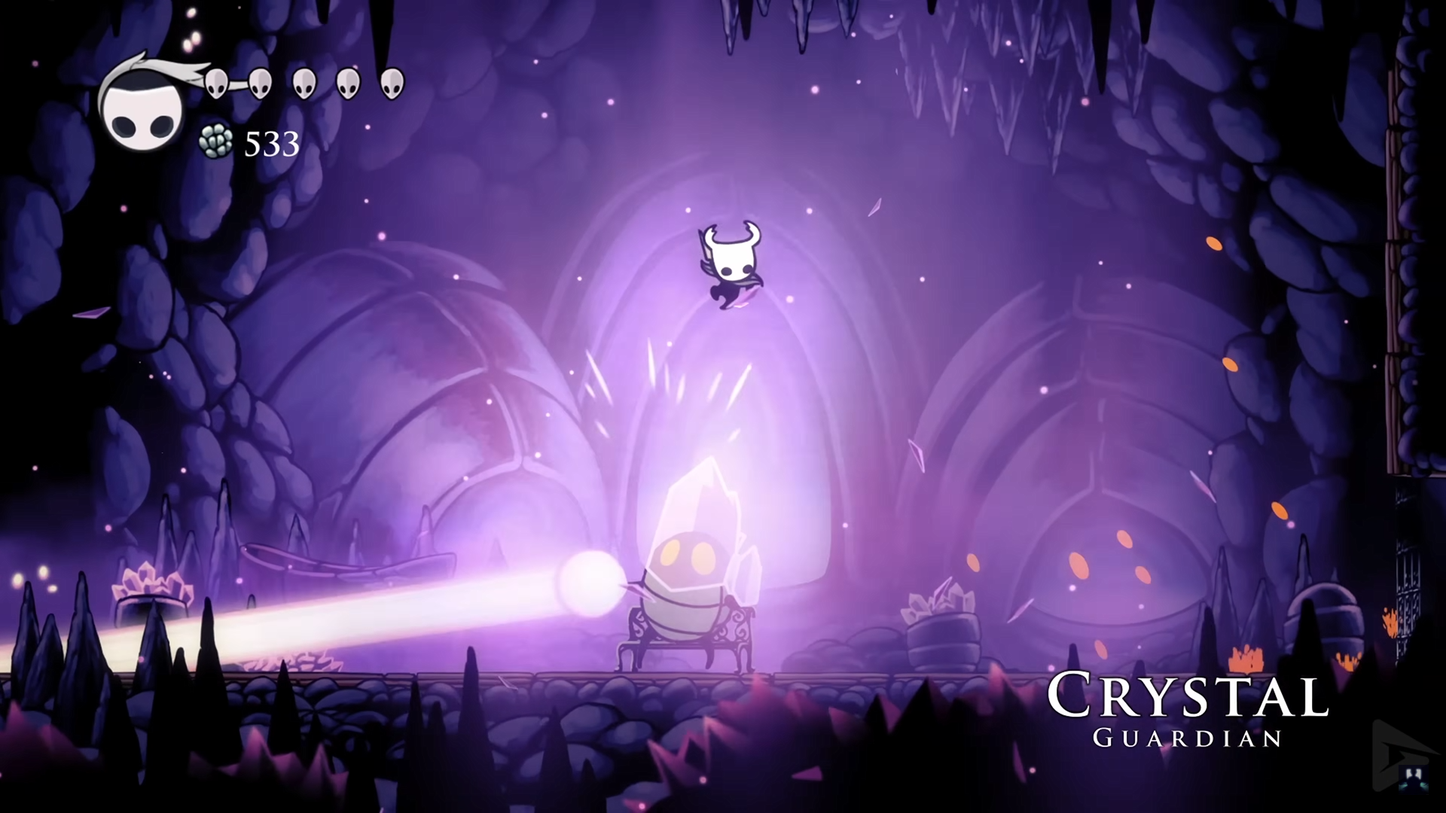HK: (693, 218, 771, 315)
